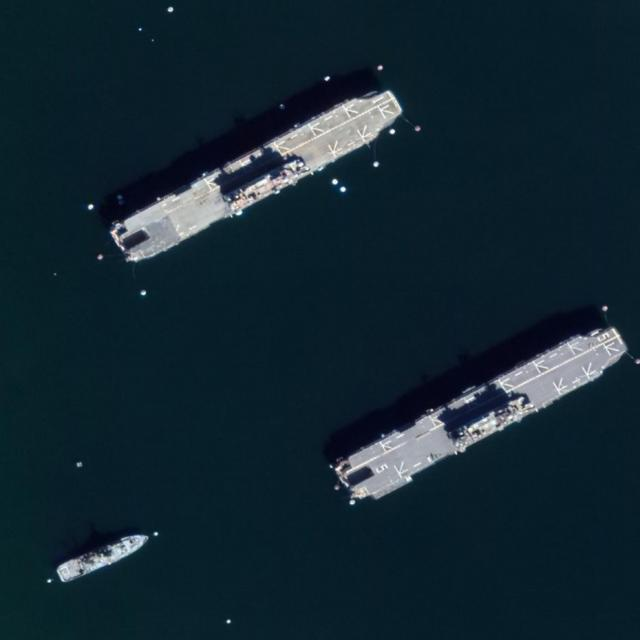Landing: (330, 313, 632, 509), (107, 81, 410, 266)
Other Warship: (55, 527, 153, 585)
